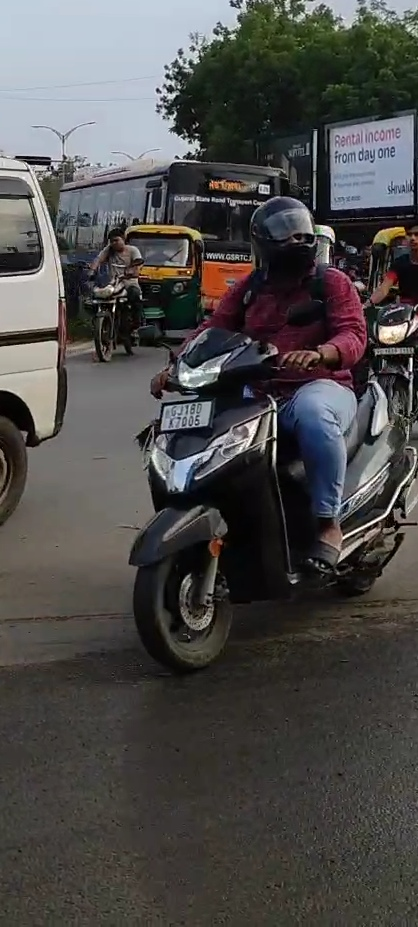BikeWithRider: (123, 196, 418, 680), (73, 226, 147, 364)
Helmet: (245, 194, 326, 283)
NoHelmet: (107, 228, 128, 252)
